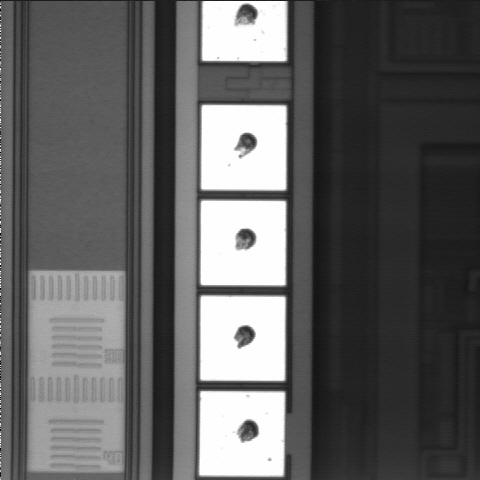pad: (199, 391, 285, 476), (201, 105, 286, 190), (200, 296, 285, 381), (201, 201, 286, 285)
